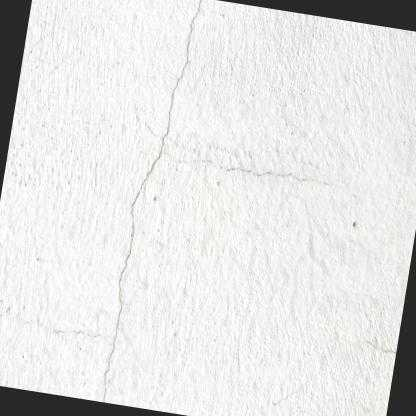crack: (102, 0, 200, 402)
